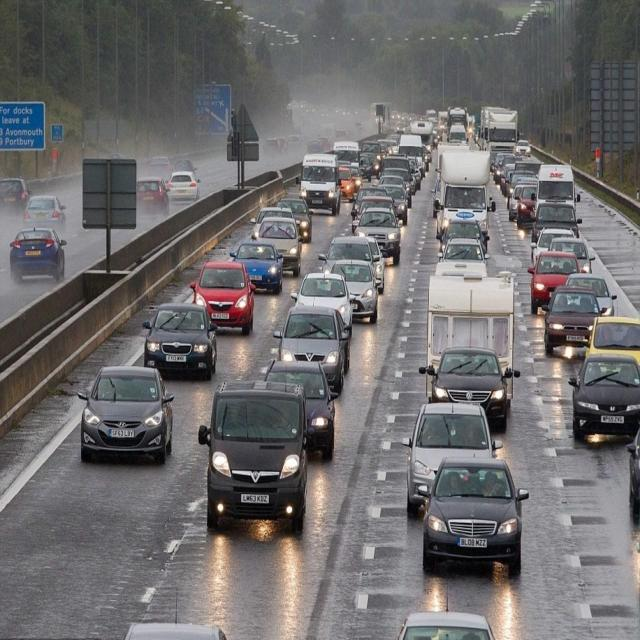Car: (416, 455, 530, 581), (403, 400, 505, 514), (78, 366, 174, 464), (424, 343, 515, 430), (260, 354, 338, 452), (567, 345, 640, 438), (275, 300, 349, 387), (142, 301, 221, 380), (190, 258, 260, 332), (541, 284, 610, 354), (290, 272, 356, 338), (528, 250, 584, 313), (228, 239, 288, 296), (584, 315, 638, 378), (328, 260, 381, 324), (8, 227, 66, 284), (394, 610, 494, 640), (348, 209, 402, 264), (248, 218, 300, 270), (562, 272, 619, 316), (317, 237, 379, 276), (436, 217, 491, 258), (530, 226, 580, 268), (349, 195, 402, 234), (544, 237, 596, 274), (124, 621, 230, 639), (366, 184, 410, 226), (271, 196, 312, 241), (249, 208, 301, 242), (436, 238, 491, 267), (624, 421, 640, 516), (362, 235, 388, 293), (349, 186, 395, 217), (23, 194, 67, 226), (137, 176, 172, 216), (166, 170, 201, 208), (505, 171, 538, 208), (379, 167, 412, 200), (0, 176, 32, 210), (514, 185, 539, 227), (377, 175, 407, 200), (334, 167, 355, 202), (509, 182, 525, 225), (146, 156, 173, 178), (345, 165, 364, 192), (407, 156, 423, 188), (172, 158, 198, 177), (431, 177, 444, 215), (359, 154, 374, 182), (513, 139, 531, 157), (306, 140, 325, 155), (316, 136, 332, 150)
Truck: (433, 150, 498, 246), (486, 110, 520, 157), (481, 106, 513, 150), (409, 119, 434, 156), (447, 106, 469, 133)
Van: (198, 380, 312, 529), (531, 163, 581, 224), (295, 153, 342, 216), (396, 134, 424, 178), (330, 140, 364, 173), (448, 124, 468, 146)
